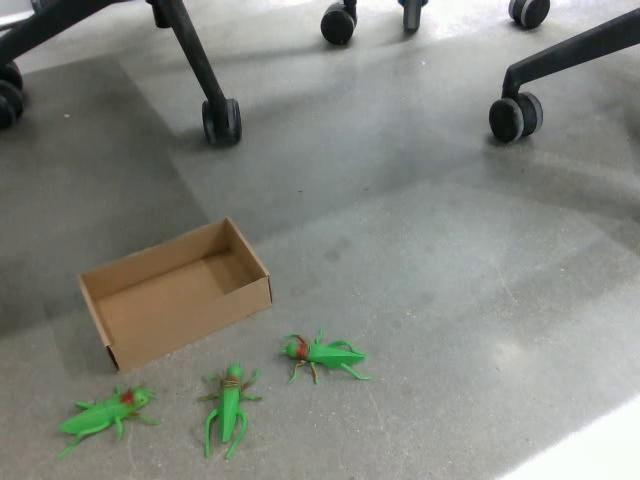box: (77, 215, 273, 374)
grasshopper: (56, 383, 159, 459), (196, 359, 262, 461), (278, 327, 371, 385)
